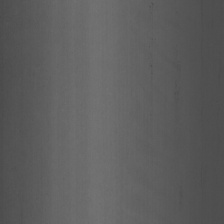inclusion: (147, 46, 154, 79)
